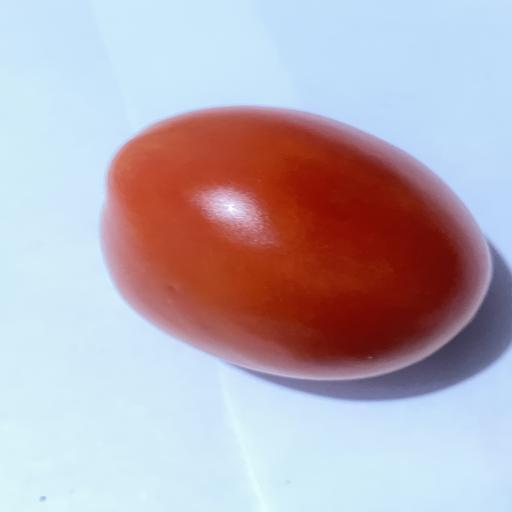ripe: (102, 107, 490, 380)
